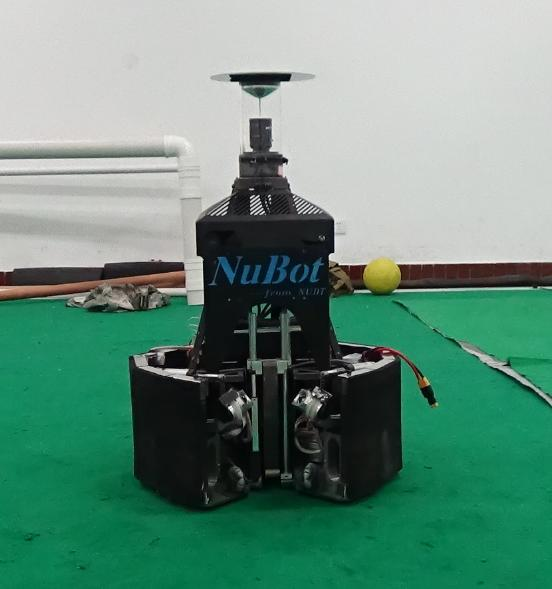robot: (122, 68, 410, 516)
